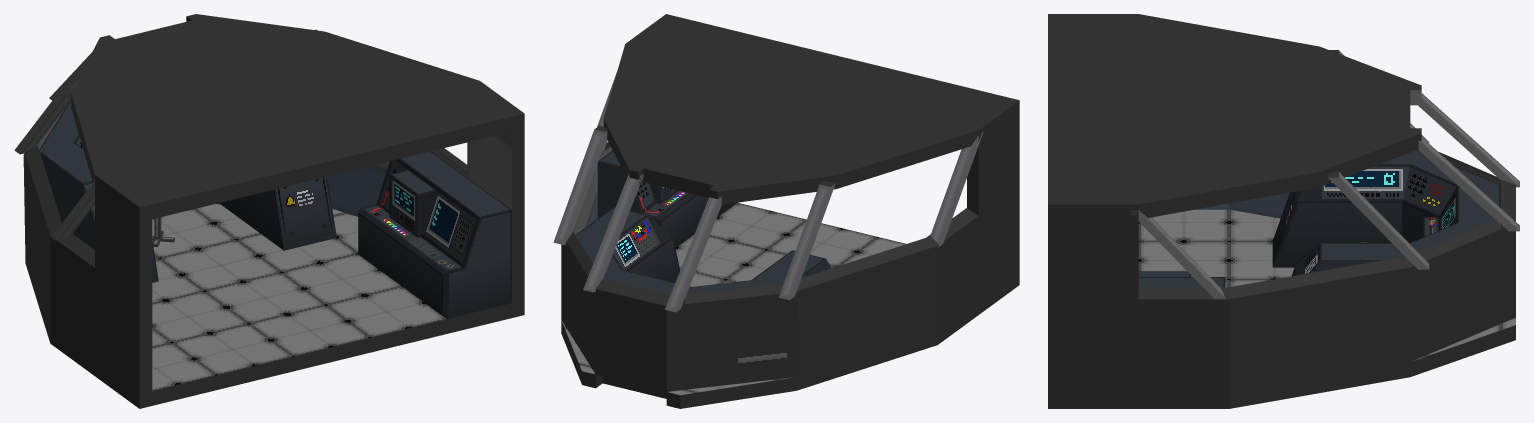
Rendered from BlueFlightDeck.gltf.
3 views of the same model, side by side, from view 1: azimuth 30°, elevation 25°; view 2: azimuth 150°, elevation 25°; view 3: azimuth 270°, elevation 25° (orthographic). The views are drawn at different scales.
Parts seen in each view (by area): view 1: Floor, cuboid; view 2: Floor, cuboid; view 3: Floor, cuboid.
Boxes of the visible parts, x1,y1,x2,y2 form: Floor: [23, 14, 524, 408]; cuboid: [14, 29, 317, 241]; Floor: [561, 14, 1019, 408]; cuboid: [553, 72, 983, 312]; Floor: [1048, 14, 1515, 408]; cuboid: [1129, 50, 1519, 299].
Size of the model in its own units: 5 by 2.5 by 5.23.
7 materials, 7 textured.
